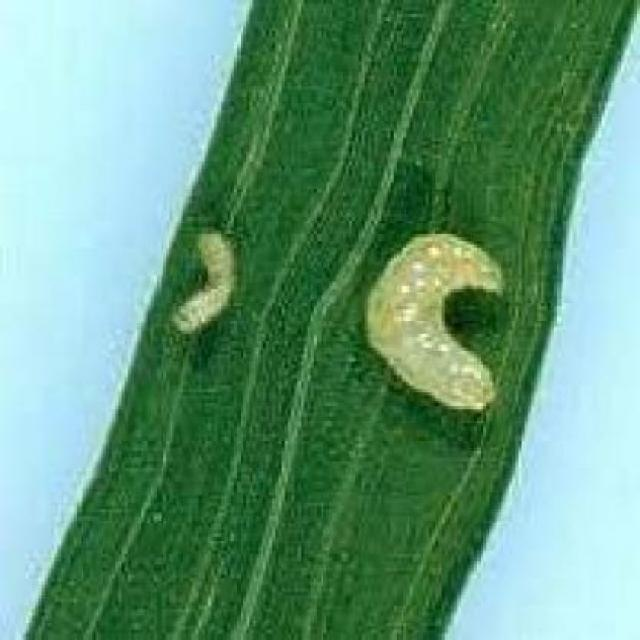whorl-maggot: (338, 208, 518, 418), (161, 200, 254, 348)
